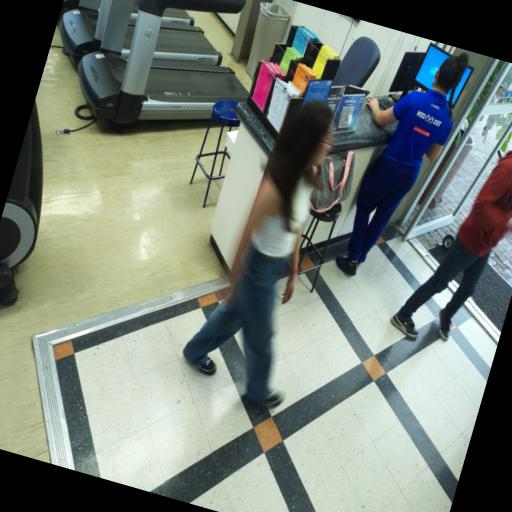person: (183, 101, 331, 406), (336, 53, 467, 275), (390, 151, 511, 340)
